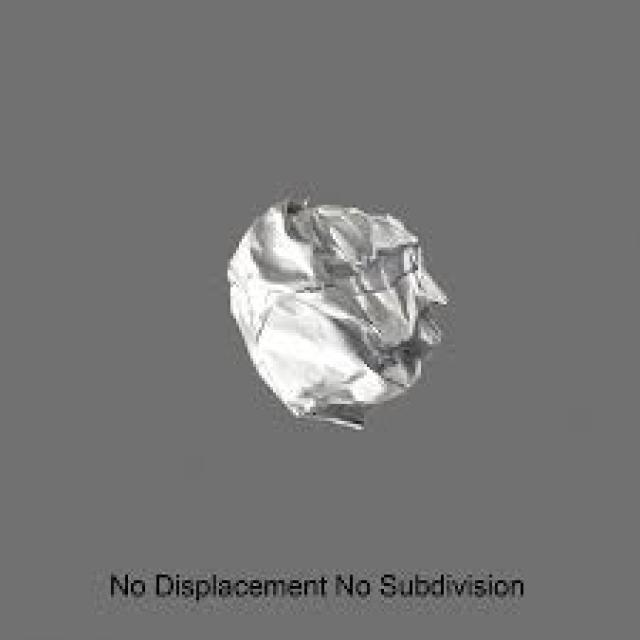Paper: (229, 203, 443, 425)
